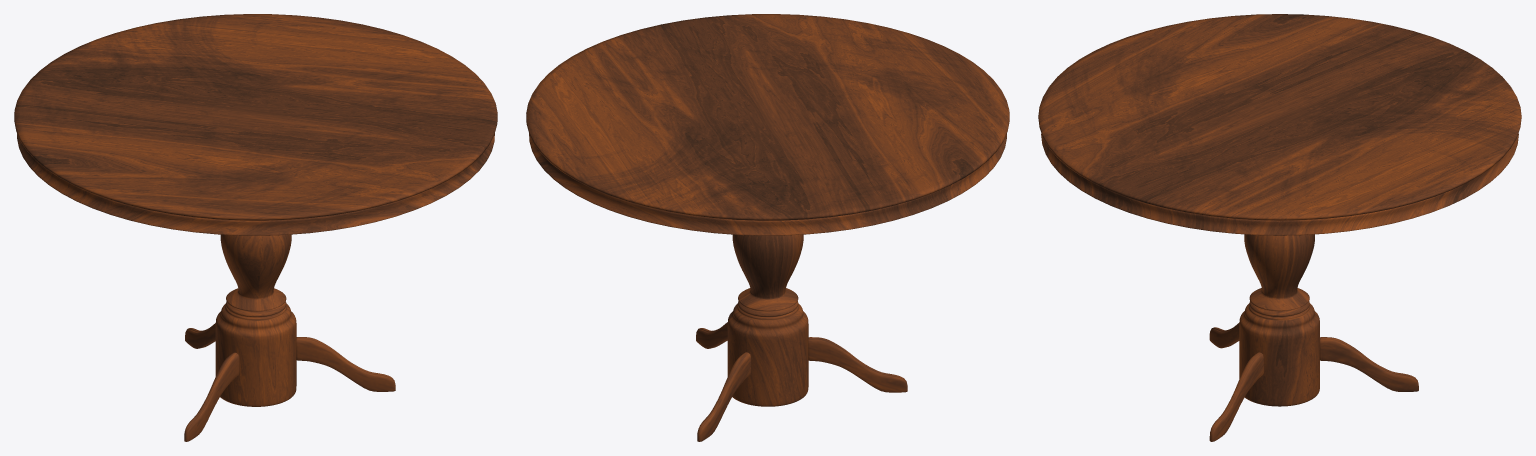
File: mesa.fbx
The picture shows the model from 3 angles, left to right: view 1: azimuth 30°, elevation 25°; view 2: azimuth 150°, elevation 25°; view 3: azimuth 270°, elevation 25°; orthographic projection.
Parts seen in each view (by area): view 1: Table; view 2: Table; view 3: Table.
Part boxes in pixels (x1=…): Table: x1=14, y1=14, x2=497, y2=441; Table: x1=526, y1=14, x2=1009, y2=441; Table: x1=1038, y1=14, x2=1521, y2=441.
Bounding box in the file's own units: 325 × 205 × 325.
1 material, 1 textured.
